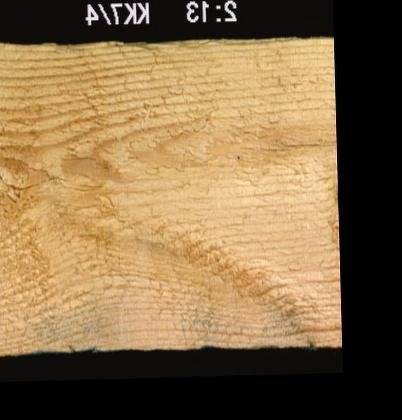split: (229, 140, 336, 159)
